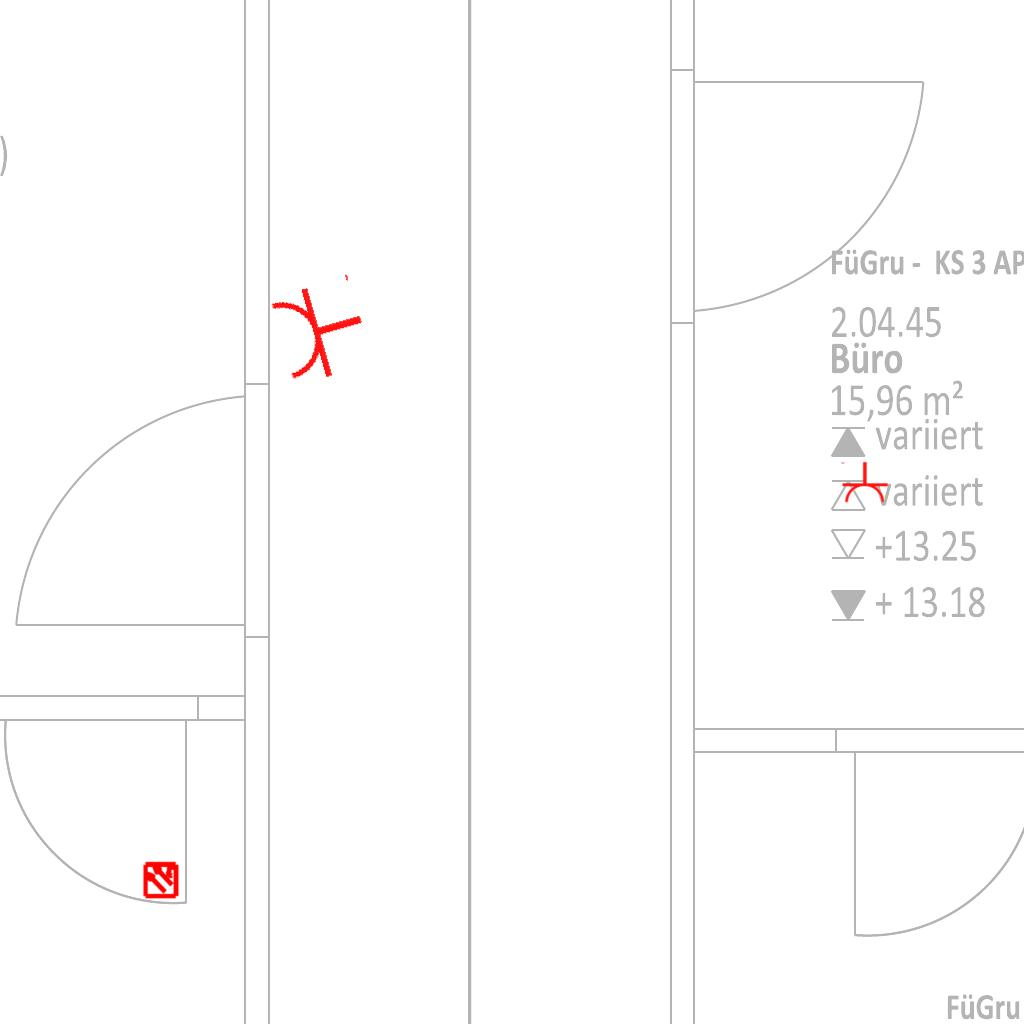OT_Multisensormelder_(Kombination_RMO_WMD): (133, 851, 189, 907)
Schukosteckdose_einfach: (264, 268, 377, 390), (839, 461, 889, 504)
